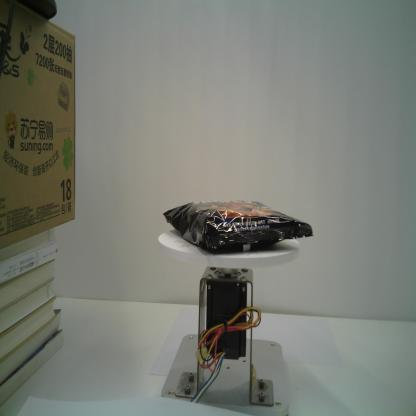Instant Noodles: (161, 197, 314, 255)
